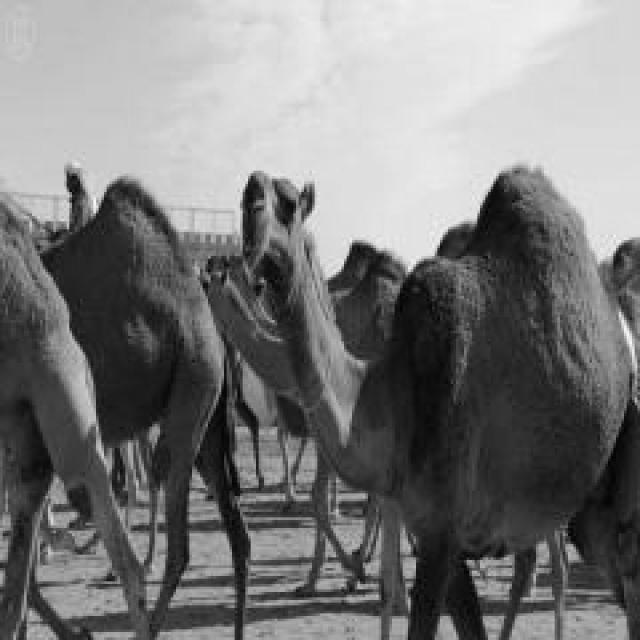Camel: (232, 163, 637, 637)
